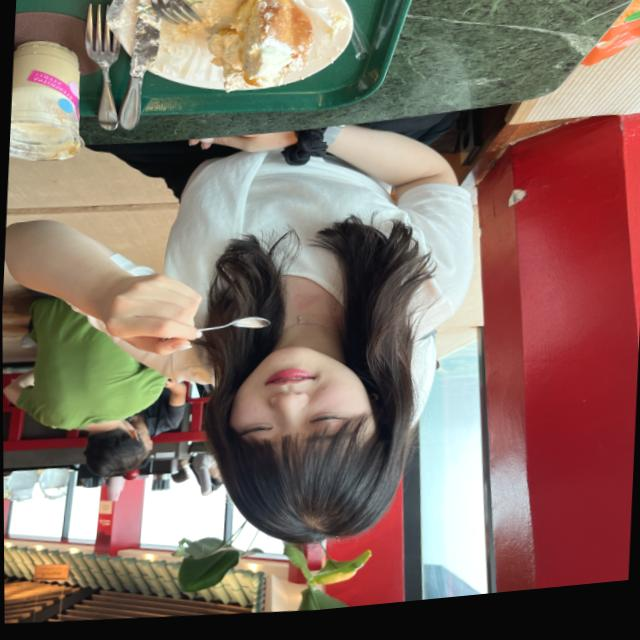eating-person: (1, 107, 494, 596)
